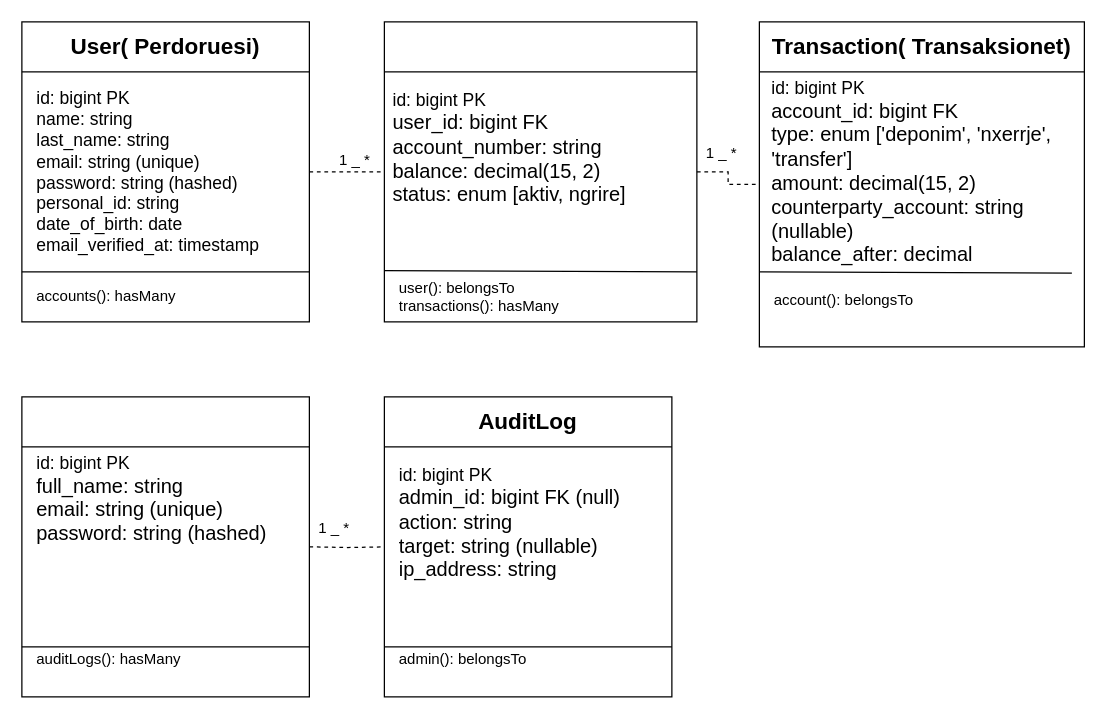
Some shapes in this 1106 by 719 pixel diagram are drawn without their labels. Here are the shapes that lost their labels. From the top down, the box of each, then its label:
(383, 21, 697, 322): Account( Llogaria Bankare)
(21, 396, 309, 697): Admin
